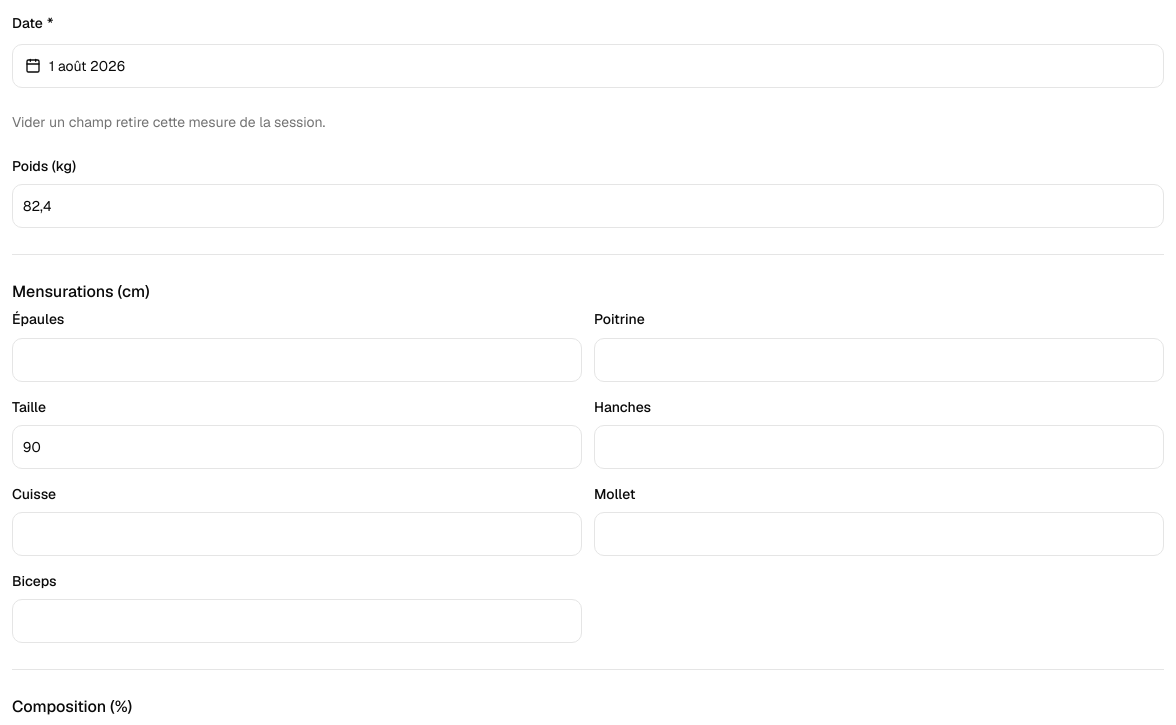
Test case: MeasurementSessionForm — mode='edit' (s09 task 7) › shows "Cette mesure sera retirée." under a cleared field that was recorded, and hides it again once retyped
Expected: the text "Cette mesure sera retirée." is not shown
Clear the field labelled "Poids (kg)": (588,206) [12,184,1164,228]
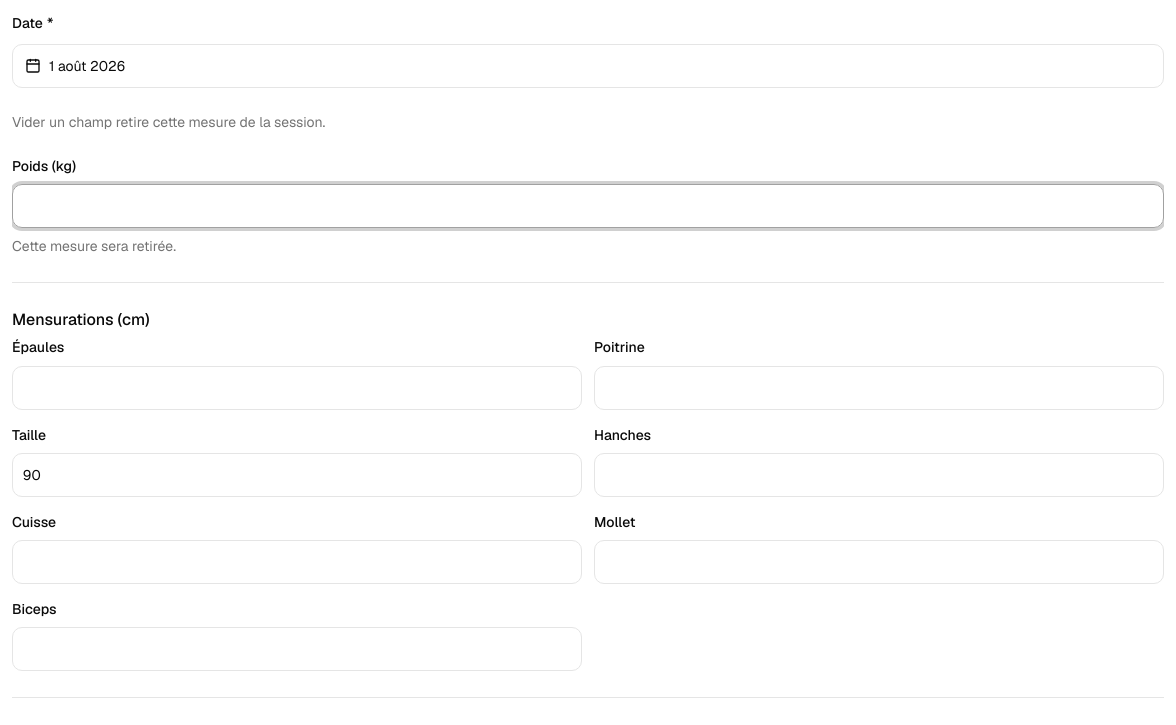
Expected: the text "Cette mesure sera retirée." is shown, [12,237,176,255]
In the field labelled "Poids (kg)": (588,206) [12,184,1164,228], type "80"
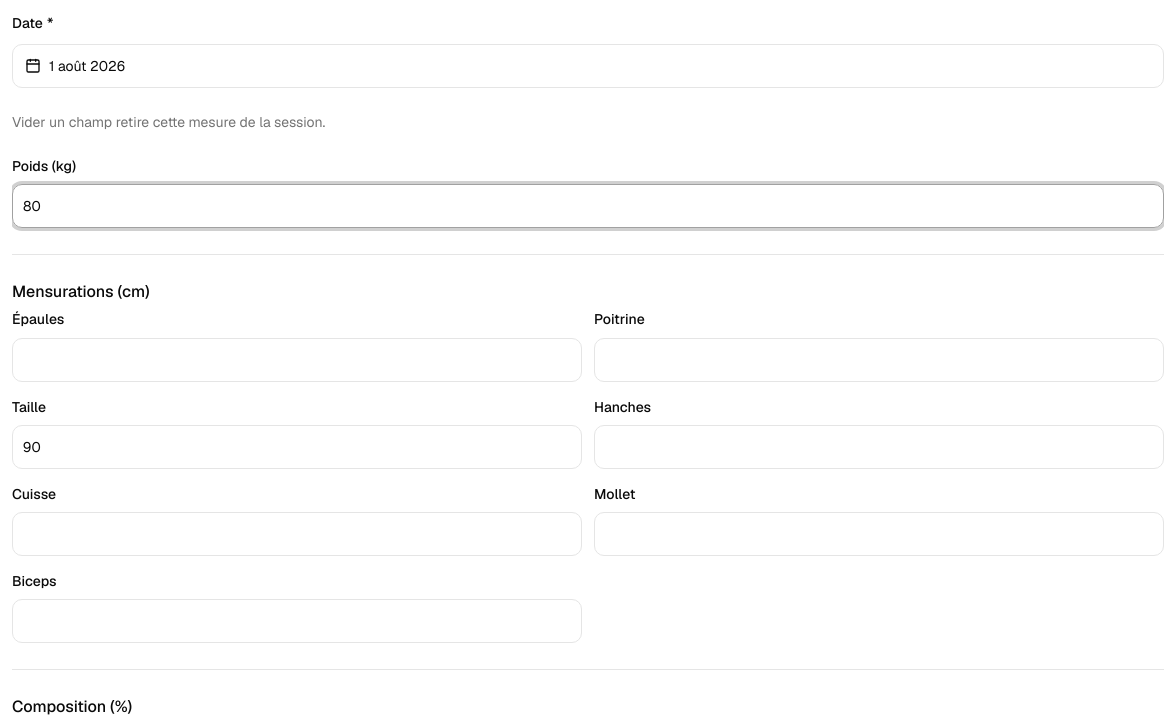
Expected: the text "Cette mesure sera retirée." is gone
